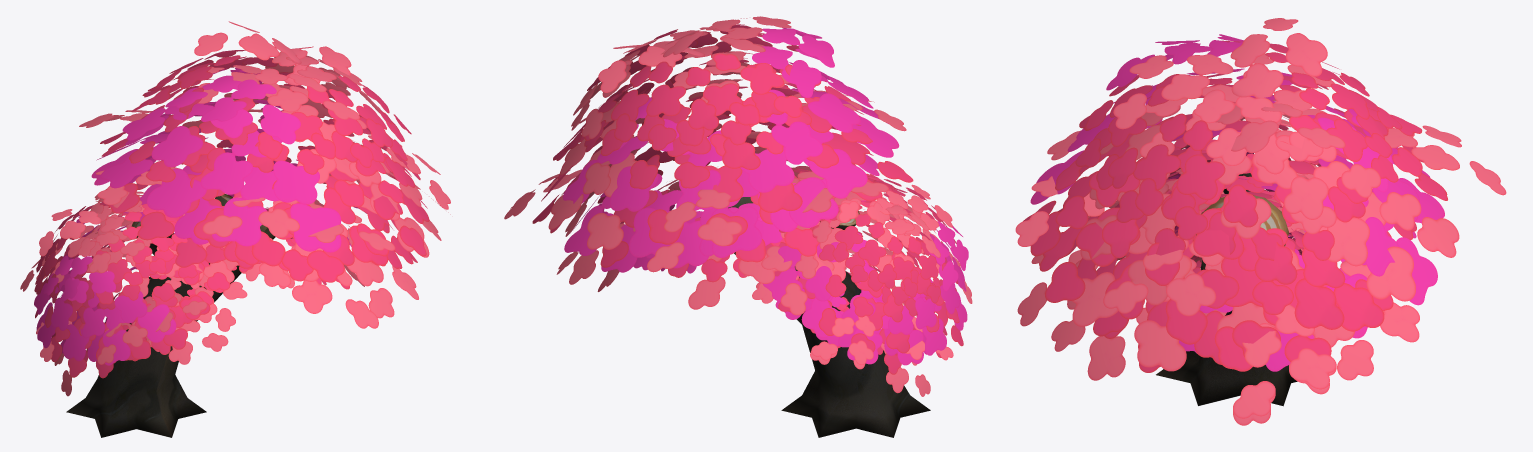
The model's file is sakura3.glb.
3 views of the same model, side by side, from view 1: azimuth 30°, elevation 25°; view 2: azimuth 150°, elevation 25°; view 3: azimuth 270°, elevation 25° (orthographic). The views are drawn at different scales.
Parts seen in each view (by area): view 1: MidGrow.004_11; view 2: MidGrow.004_11; view 3: MidGrow.004_11.
Part boxes in pixels (x1,y1,x2,y2): MidGrow.004_11: (20,21,450,437); MidGrow.004_11: (504,16,972,437); MidGrow.004_11: (1015,18,1506,425).
Bounding box in the file's own units: 2.72 × 2.15 × 2.4.
Materials: 1 (1 with a texture image).
